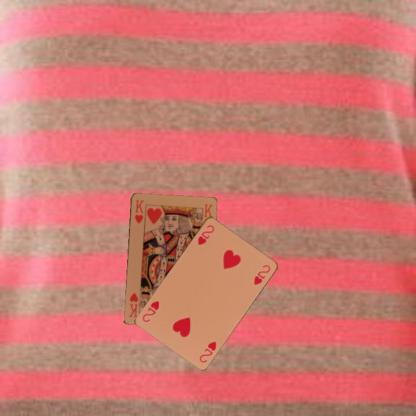2h: (196, 339, 218, 364), (194, 222, 216, 246)
Kh: (132, 197, 145, 225)
